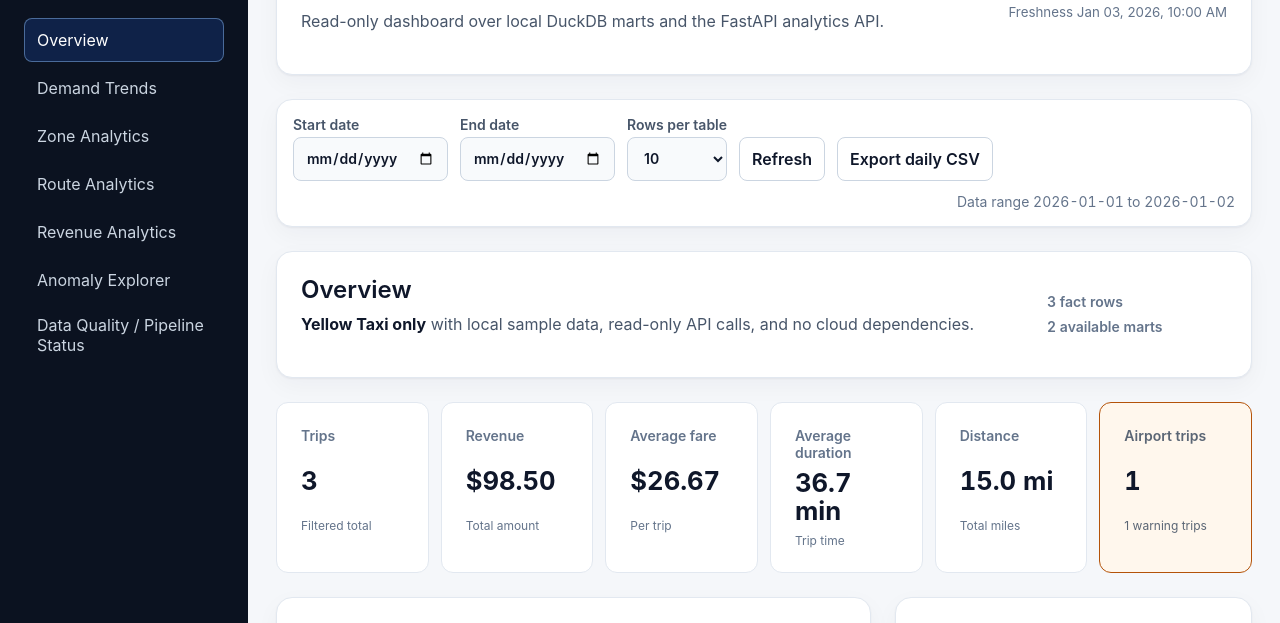
Urban mobility dashboard › renders rejected-record counts and validation rule evidence
Click the button "Data Quality / Pipeline Status" at (124,335), box left=24, top=306, right=224, bottom=364
(page scrolled)
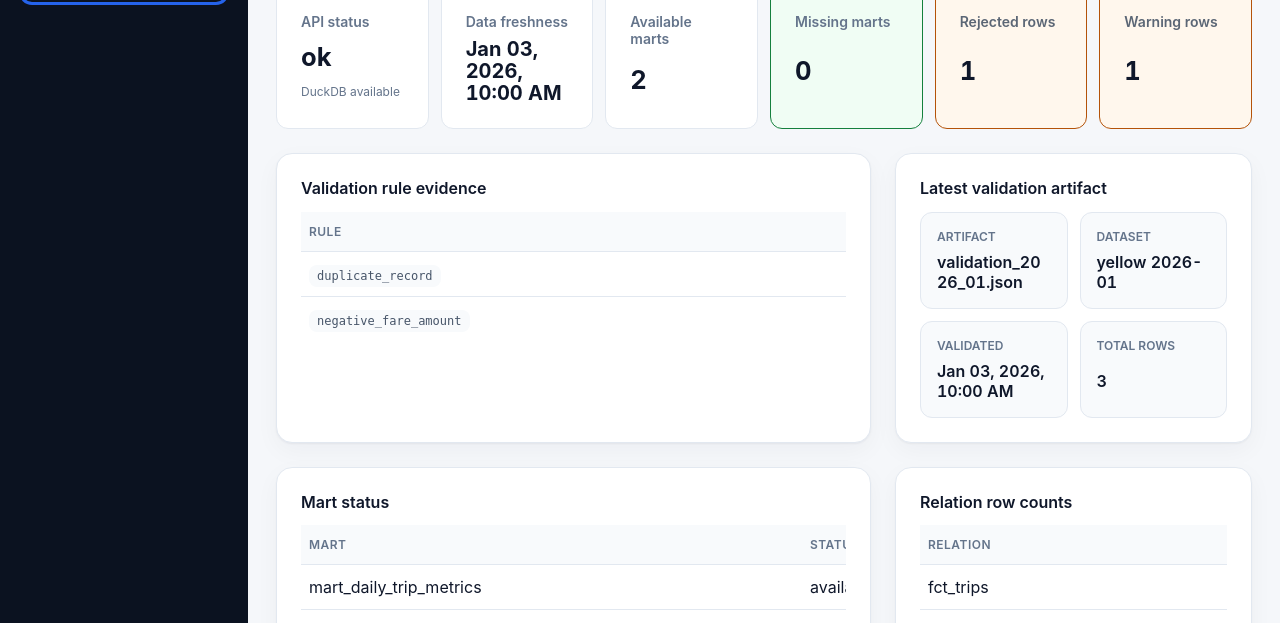
expect the text "Rejected rows" is shown: met, box left=960, top=13, right=1055, bottom=30
expect the text "negative_fare_amount" is shown: met, box left=309, top=310, right=470, bottom=332
expect the text "validation_2026_01.json" is shown: met, box left=937, top=252, right=1050, bottom=292
